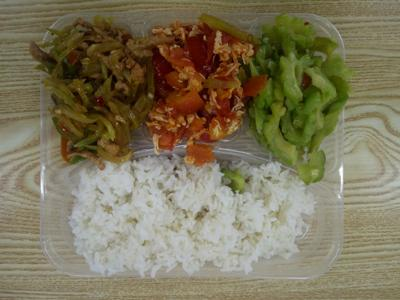jdxhs: (141, 16, 257, 141)
rice: (52, 156, 358, 270)
